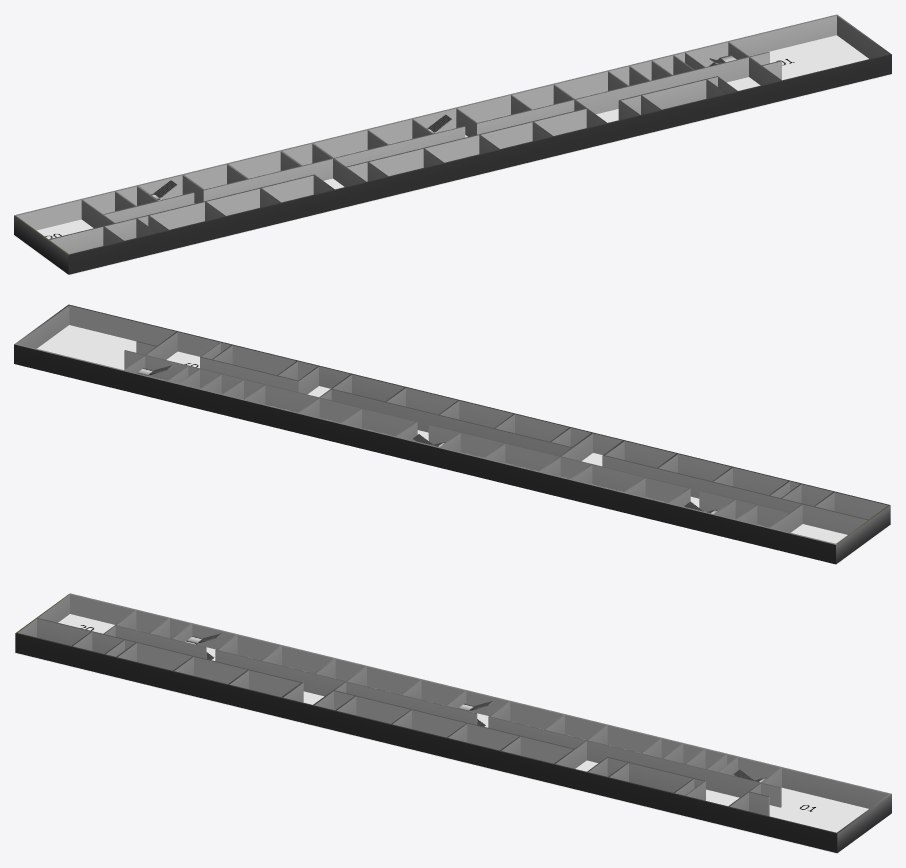
3 views of the same model, one above another, from view 1: azimuth 30°, elevation 25°; view 2: azimuth 150°, elevation 25°; view 3: azimuth 330°, elevation 25° (orthographic).
Parts seen in each view (by area): view 1: Quader01, Ebene01; view 2: Quader01, Ebene01; view 3: Quader01, Ebene01.
Boxes of the visible parts, <box> form: Quader01: <box>14,14,891,274</box>; Ebene01: <box>14,35,891,275</box>; Quader01: <box>14,304,890,564</box>; Ebene01: <box>37,325,891,563</box>; Quader01: <box>15,593,891,853</box>; Ebene01: <box>14,614,868,853</box>.
Size of the model in its own units: 304 by 35.45 by 6.89.
Materials: 2 (2 with a texture image).
